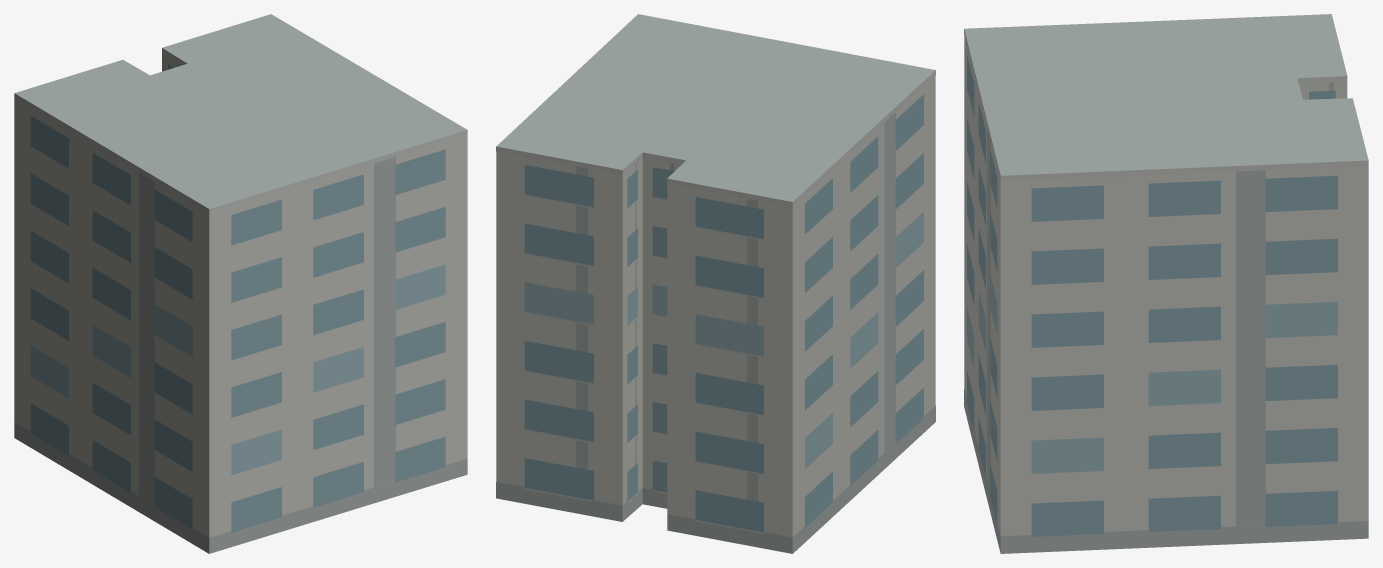
The model's file is survey-upis-32993605.glb.
The picture shows the model from 3 angles, left to right: view 1: azimuth 30°, elevation 25°; view 2: azimuth 150°, elevation 25°; view 3: azimuth 270°, elevation 25°; orthographic projection. The views are drawn at different scales.
Visible parts, largest first — view 1: survey-upis-32993605.tmp; view 2: survey-upis-32993605.tmp; view 3: survey-upis-32993605.tmp.
Part boxes in pixels (x1,y1,x2,y2): survey-upis-32993605.tmp: [14, 14, 467, 553]; survey-upis-32993605.tmp: [496, 14, 935, 553]; survey-upis-32993605.tmp: [964, 14, 1368, 553].
Size of the model in its own units: 15.33 by 16.7 by 16.2.
